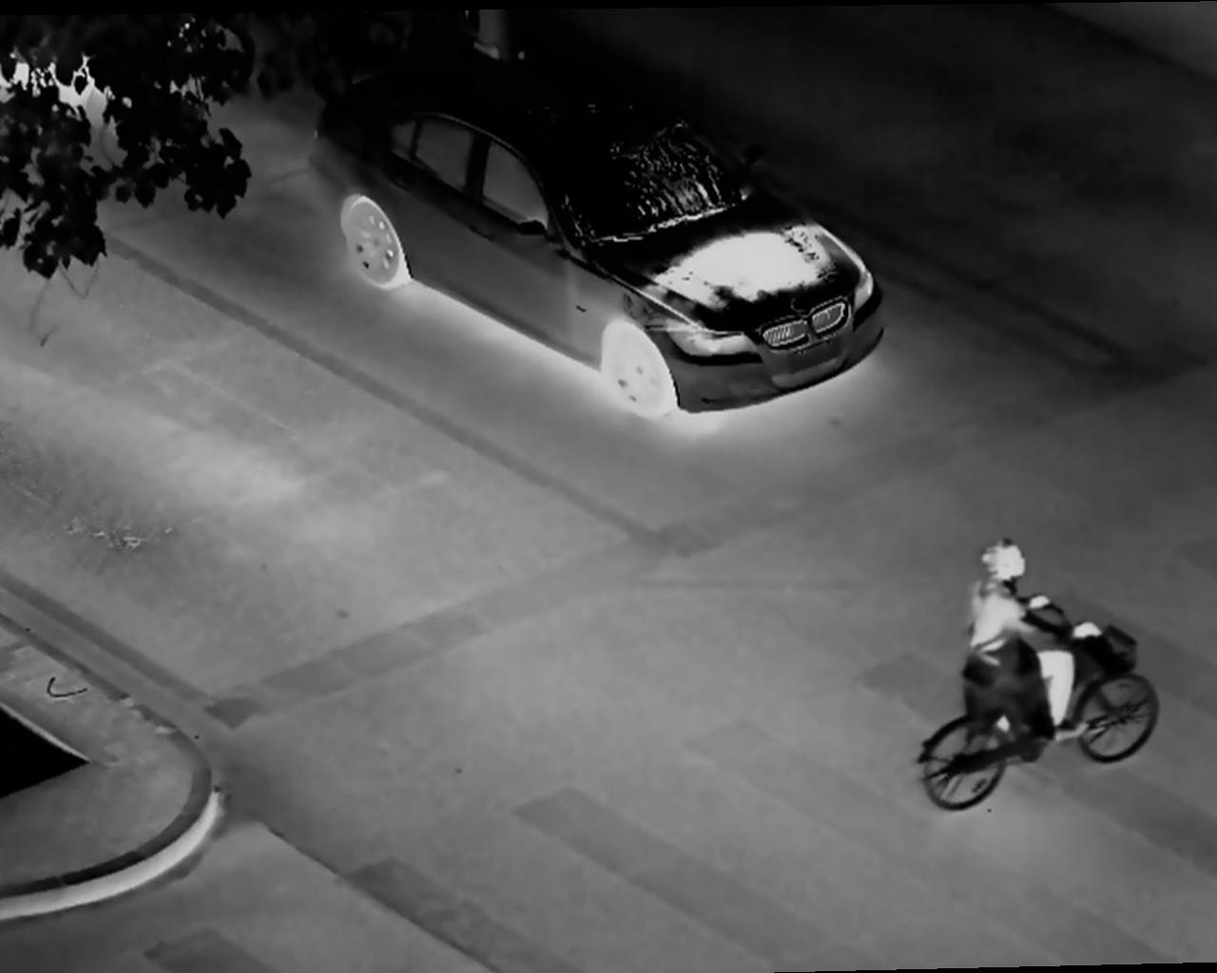person: (966, 528, 1102, 775)
